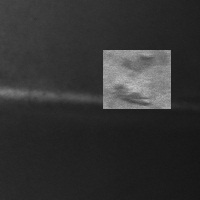rolled-in_scale: (103, 50, 171, 109)
scratches: (1, 84, 172, 109)
